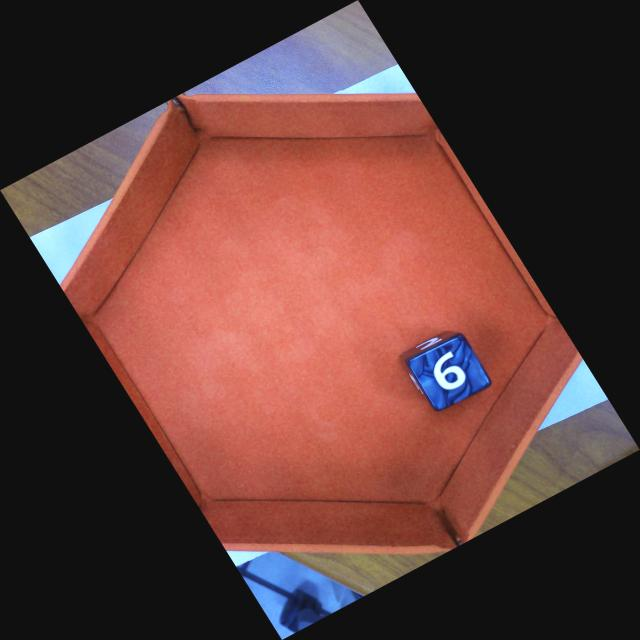dice: (404, 333, 493, 413)
